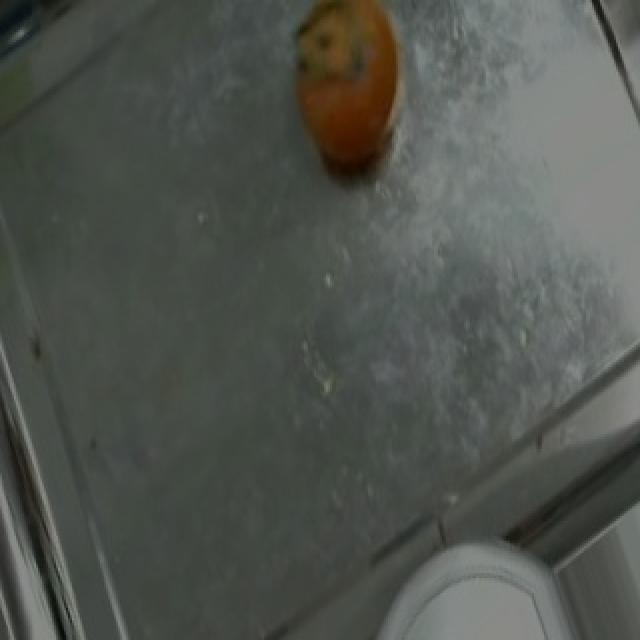Fruit: (266, 0, 432, 191), (384, 558, 570, 638)
